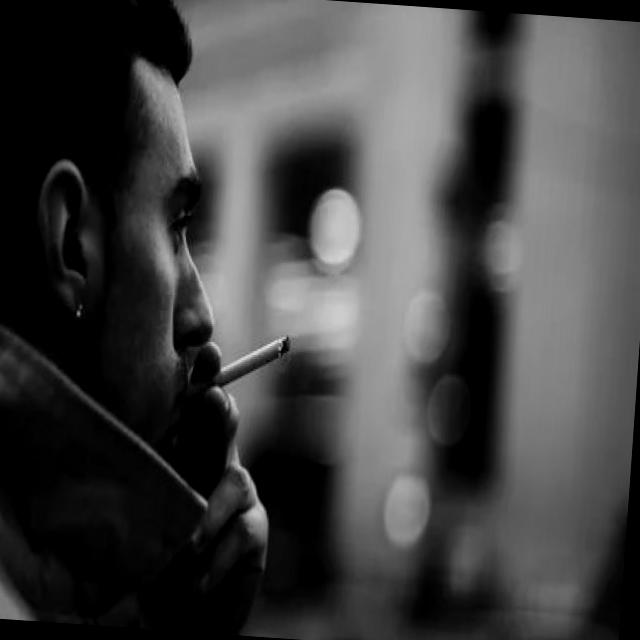cigarette: (208, 323, 295, 398)
